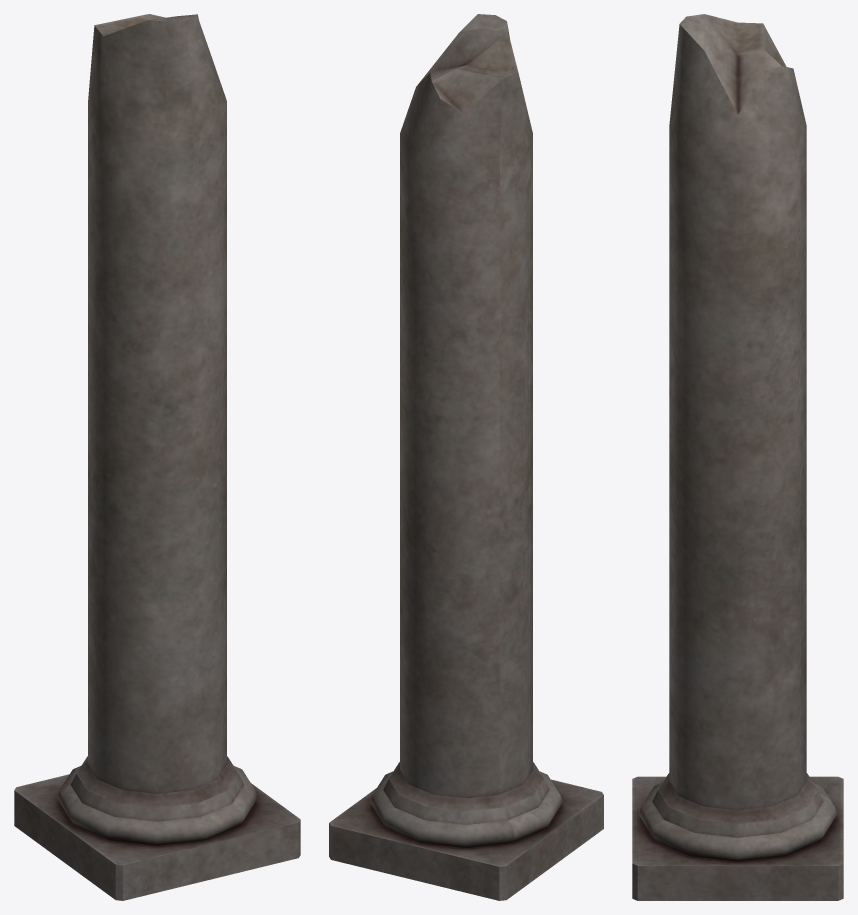
File: sb_obj_outdoor009_AncientTemple_pillar01B.fbx
3 renders of one model, left to right at view 1: azimuth 30°, elevation 25°; view 2: azimuth 150°, elevation 25°; view 3: azimuth 270°, elevation 25°, orthographic. The views are drawn at different scales.
Visible parts, largest first — view 1: sb_obj_outdoor009_AncientTemple_pillar01B; view 2: sb_obj_outdoor009_AncientTemple_pillar01B; view 3: sb_obj_outdoor009_AncientTemple_pillar01B.
Boxes of the visible parts, box(x1,y1,x2,y2) form: sb_obj_outdoor009_AncientTemple_pillar01B: box(14, 14, 300, 900); sb_obj_outdoor009_AncientTemple_pillar01B: box(329, 14, 603, 900); sb_obj_outdoor009_AncientTemple_pillar01B: box(632, 14, 843, 900).
Bounding box in the file's own units: 1.64 × 7.11 × 1.64.
